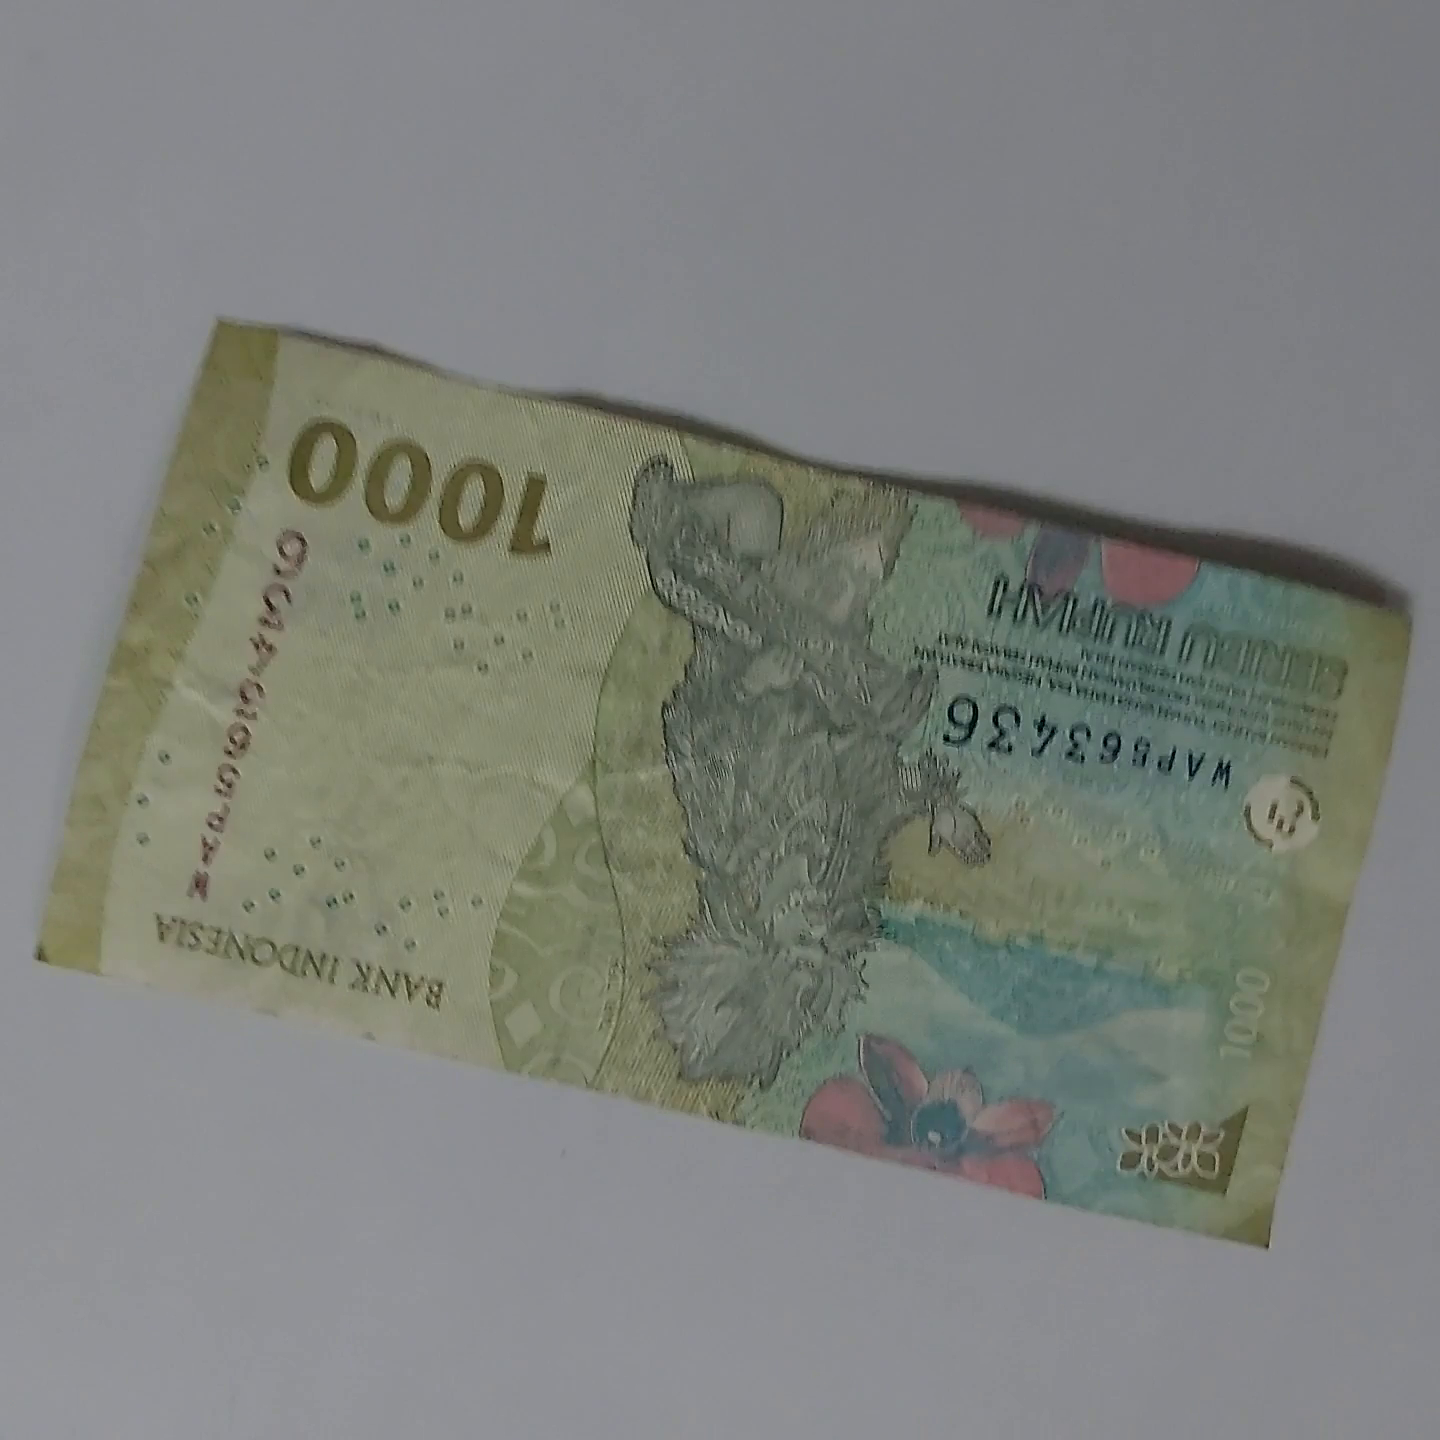1k: (181, 281, 1440, 1007)
